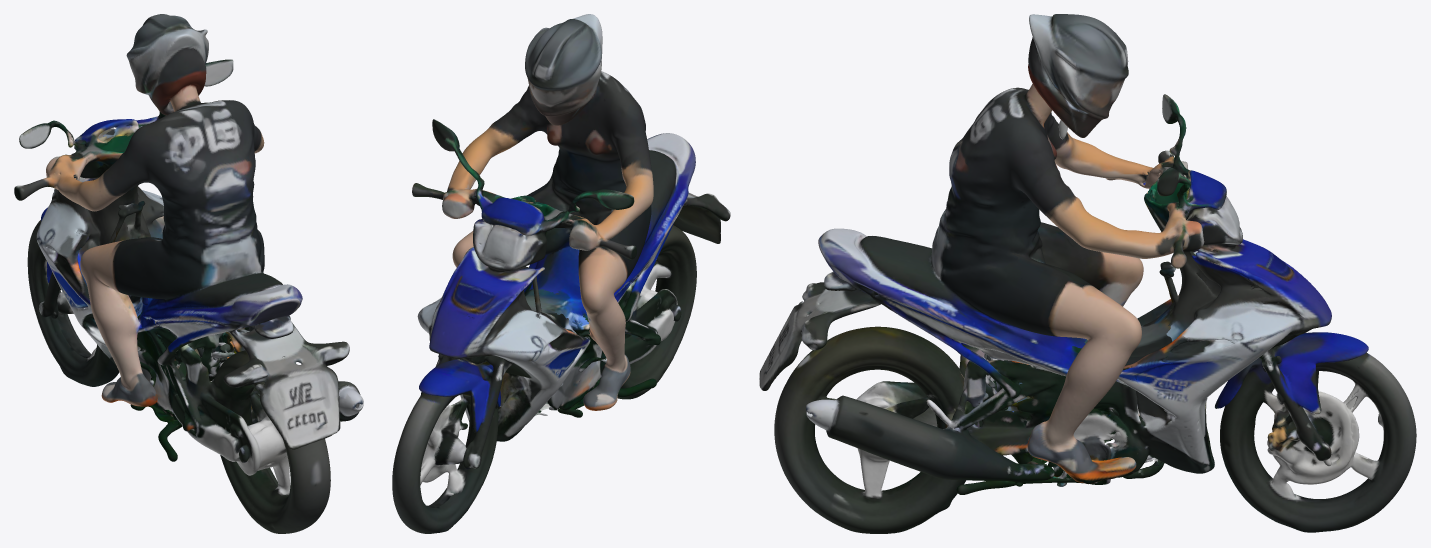
3 views of the same model, side by side, from view 1: azimuth 30°, elevation 25°; view 2: azimuth 150°, elevation 25°; view 3: azimuth 270°, elevation 25° (orthographic). The views are drawn at different scales.
Parts seen in each view (by area): view 1: tripo_node_9eb6ff1e; view 2: tripo_node_9eb6ff1e; view 3: tripo_node_9eb6ff1e.
Part boxes in pixels (<box>): tripo_node_9eb6ff1e: <box>14,14,363,533</box>; tripo_node_9eb6ff1e: <box>392,14,730,533</box>; tripo_node_9eb6ff1e: <box>759,14,1416,533</box>.
Size of the model in its own units: 44.07 by 83.68 by 100.
1 material, 1 textured.
